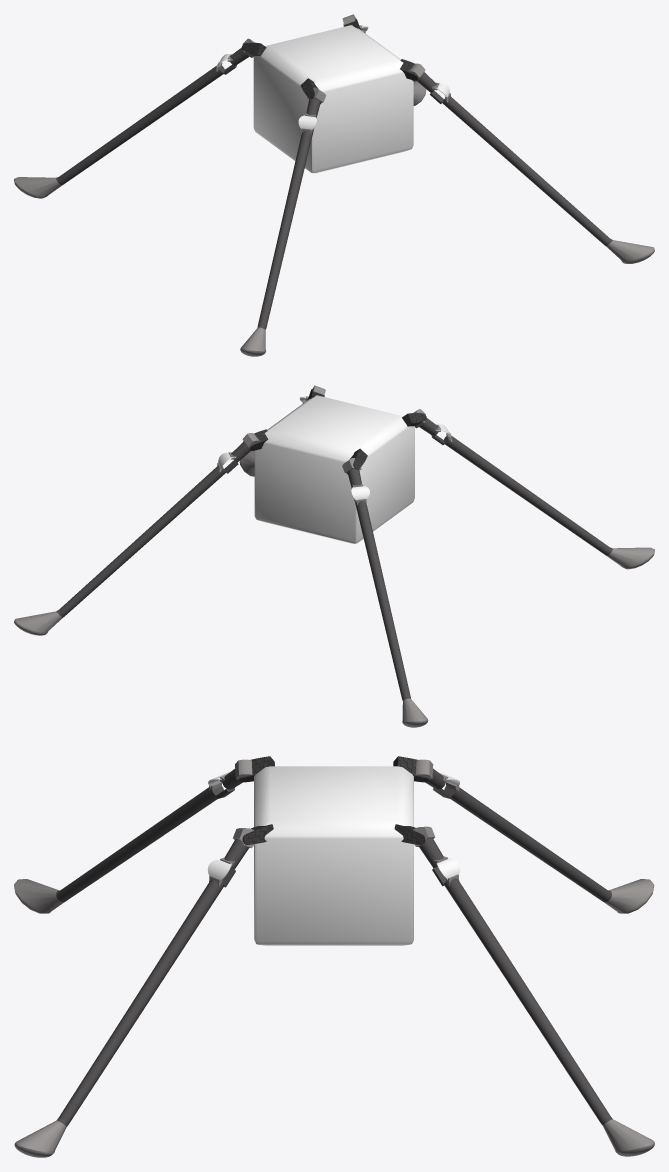
File: base_one_part.dae
3 views of the same model, one above another, from view 1: azimuth 30°, elevation 25°; view 2: azimuth 150°, elevation 25°; view 3: azimuth 270°, elevation 25° (orthographic). The views are drawn at different scales.
Visible parts, largest first — view 1: bus; view 2: bus; view 3: bus.
Part boxes in pixels (bbox=[...]): bus: bbox=[14, 14, 654, 356]; bus: bbox=[14, 385, 654, 727]; bus: bbox=[14, 756, 654, 1157].
Bounding box in the file's own units: 0.6431 × 0.643 × 0.2719.
6 materials, 2 textured.
